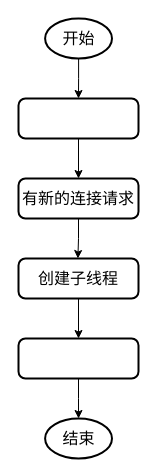
Some shapes in this 156 by 476 pixel diagram are drawn without their labels. Each missing label, with the centre of its shape:
根据不同请求 返回消息: (x=78, y=358)
监听指定端口: (x=78, y=118)
